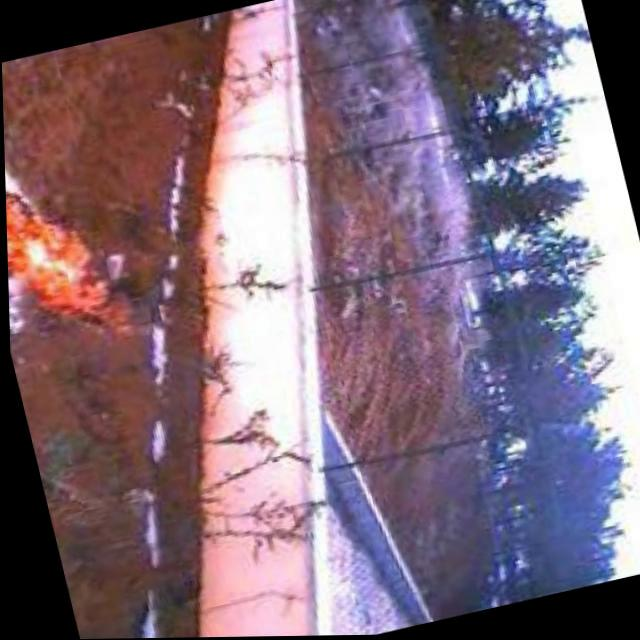fire: (4, 164, 150, 364)
